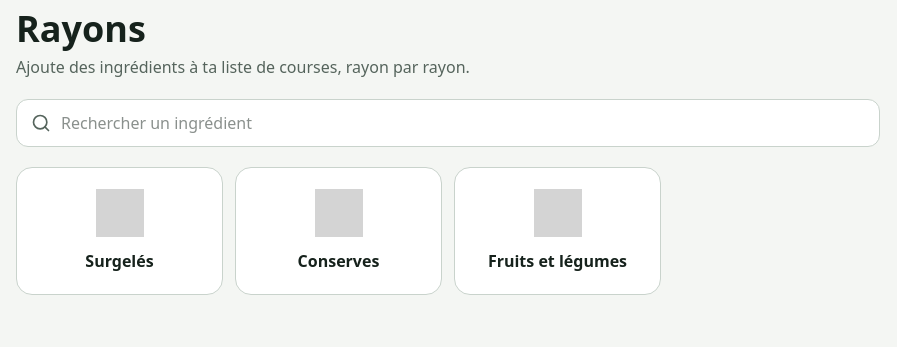
Test: DepartmentsView : la recherche et le repère du rayon › pose le repère devant le nom ; le rayon se lisait déjà dessous
In the search field with placeholder "Rechercher un ingrédient": (463, 123) [61,111,865,135], type "petits pois"
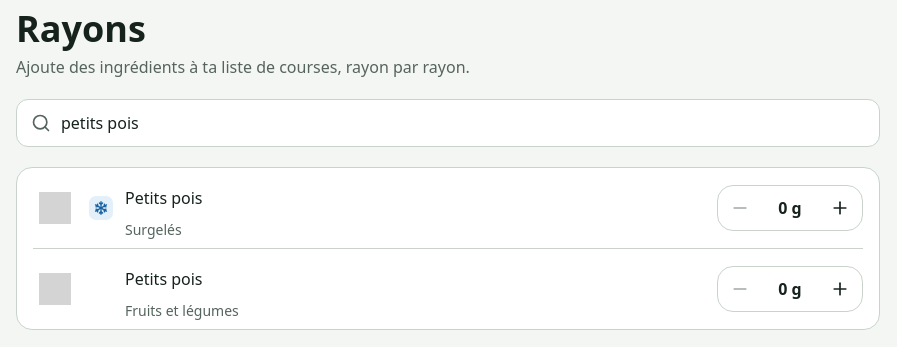
Expected: the number of list items is 2, [33,168,863,249]; [33,249,863,329]
Expected: the list item "Petits pois Surgelés 0 g" is shown, [33,168,863,249]
Expected: the list item "Petits pois Fruits et légumes 0 g" is shown, [33,249,863,329]
